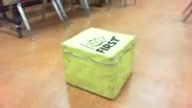cube: (61, 27, 136, 100)
